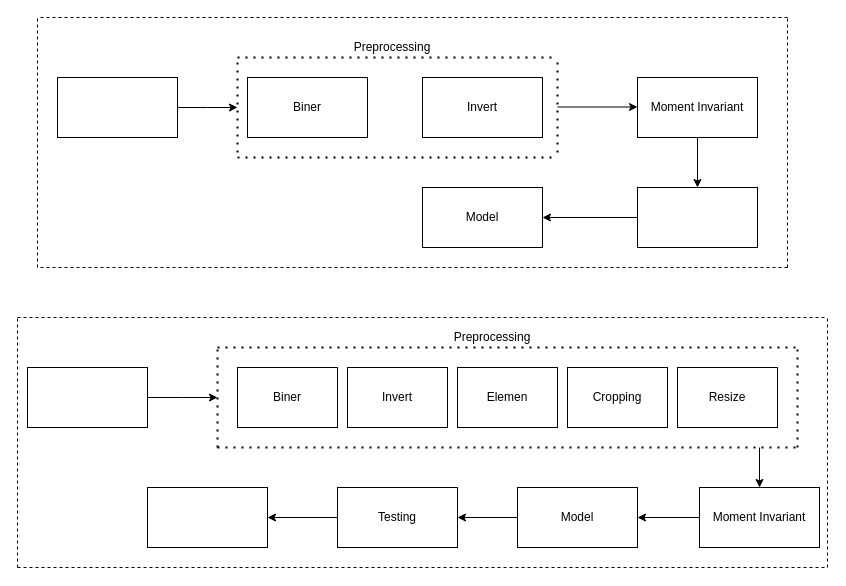
The diagram is 846 pixels wide and 586 high, and some of its shapes have lost their labels. Each missing label, with the centre of its shape:
Gambar Input: pixel 117 107
Gambar Testing: pixel 87 397
Output: pixel 207 517
Training: pixel 697 217
